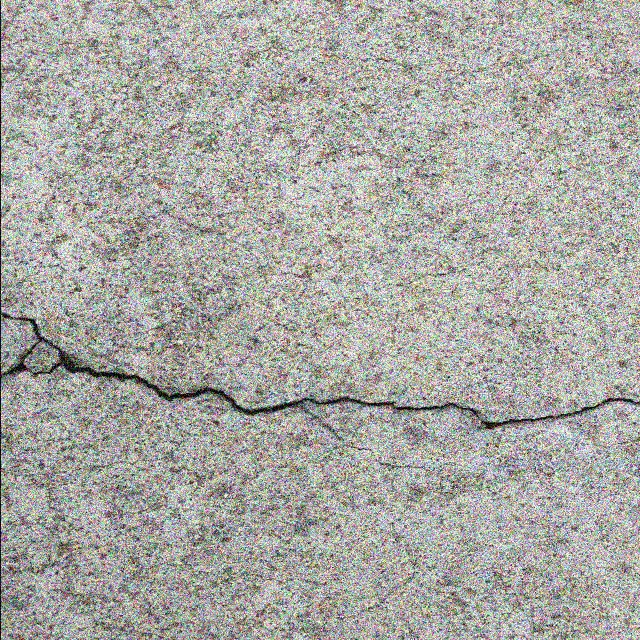SurfaceCrack: (2, 302, 640, 468)
